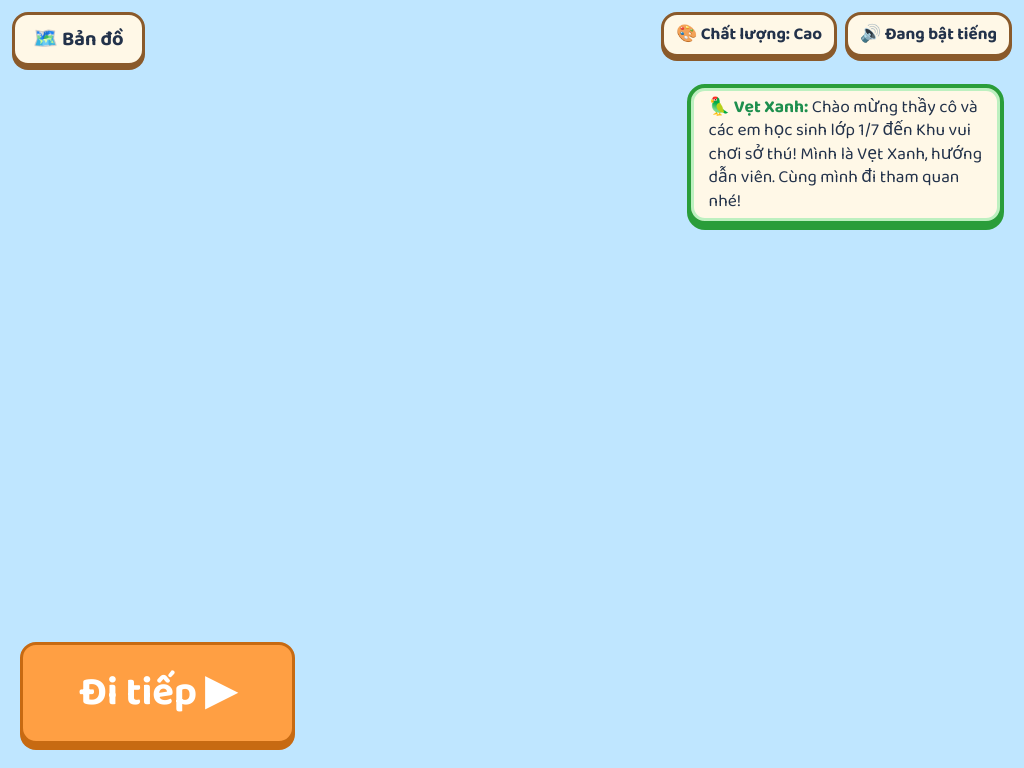
bản đồ nhảy tới Cổng 4 mà không đánh dấu các cổng trước
Click the button "🗺️ Bản đồ" at [78, 39], box left=12, top=12, right=145, bottom=66
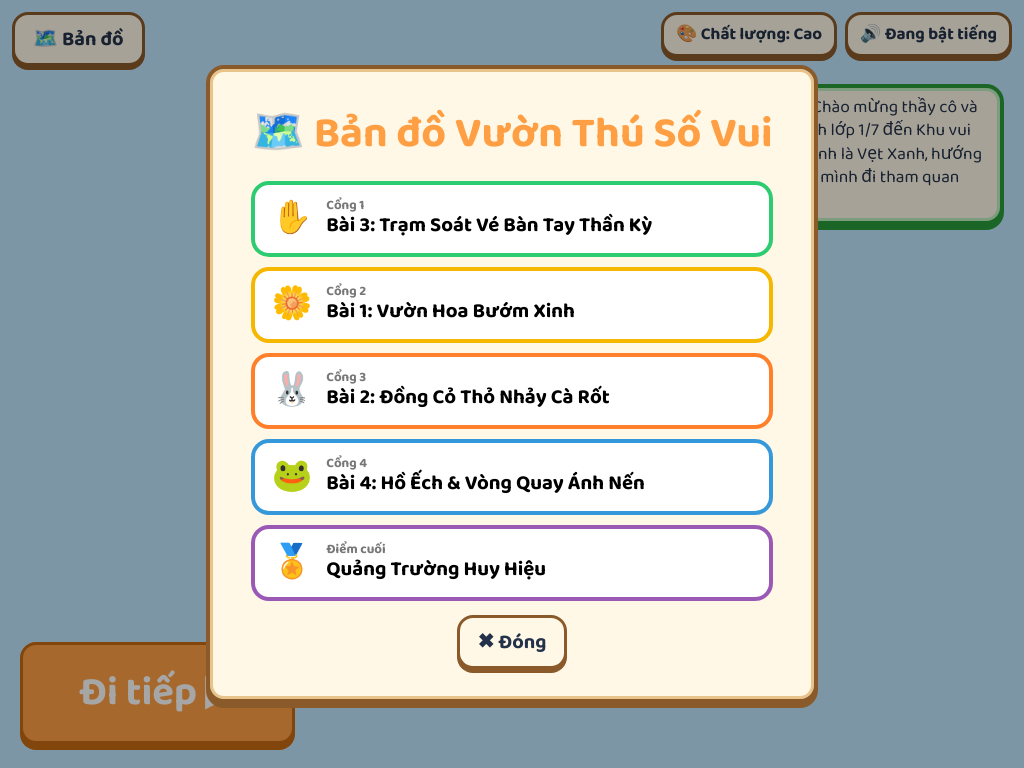
Click the text "Bài 4: Hồ Ếch & Vòng Quay Ánh Nến" at [486, 477], box left=326, top=453, right=645, bottom=500
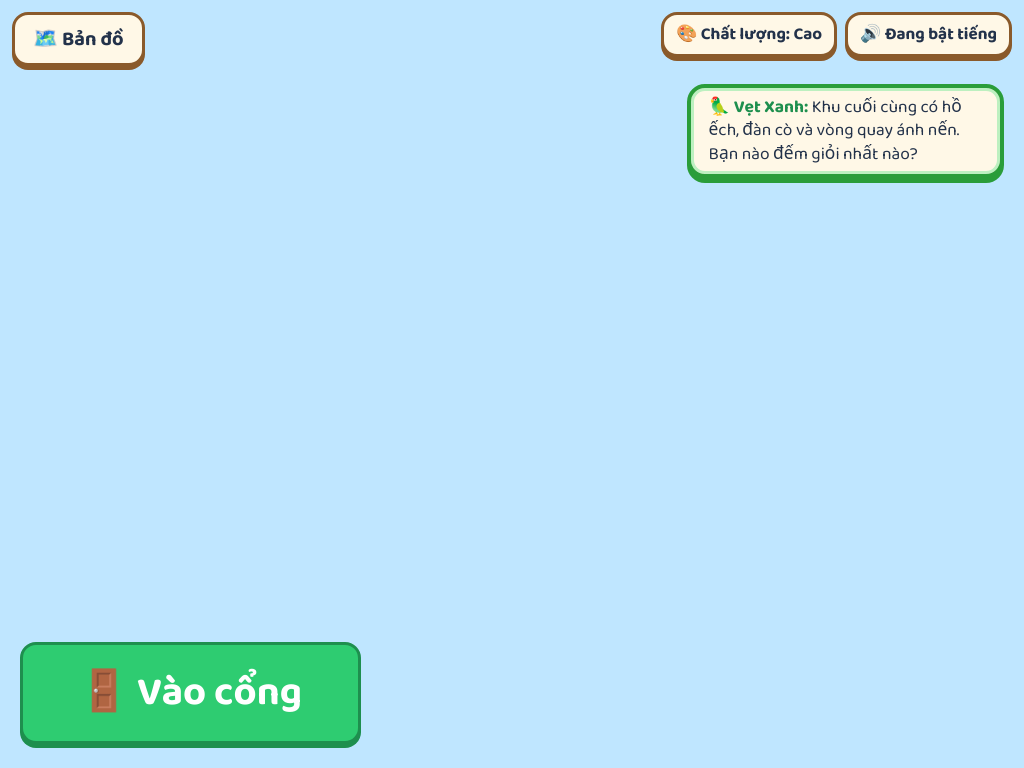
Now the text "Bạn nào đếm giỏi nhất" is shown, box left=709, top=93, right=962, bottom=168
